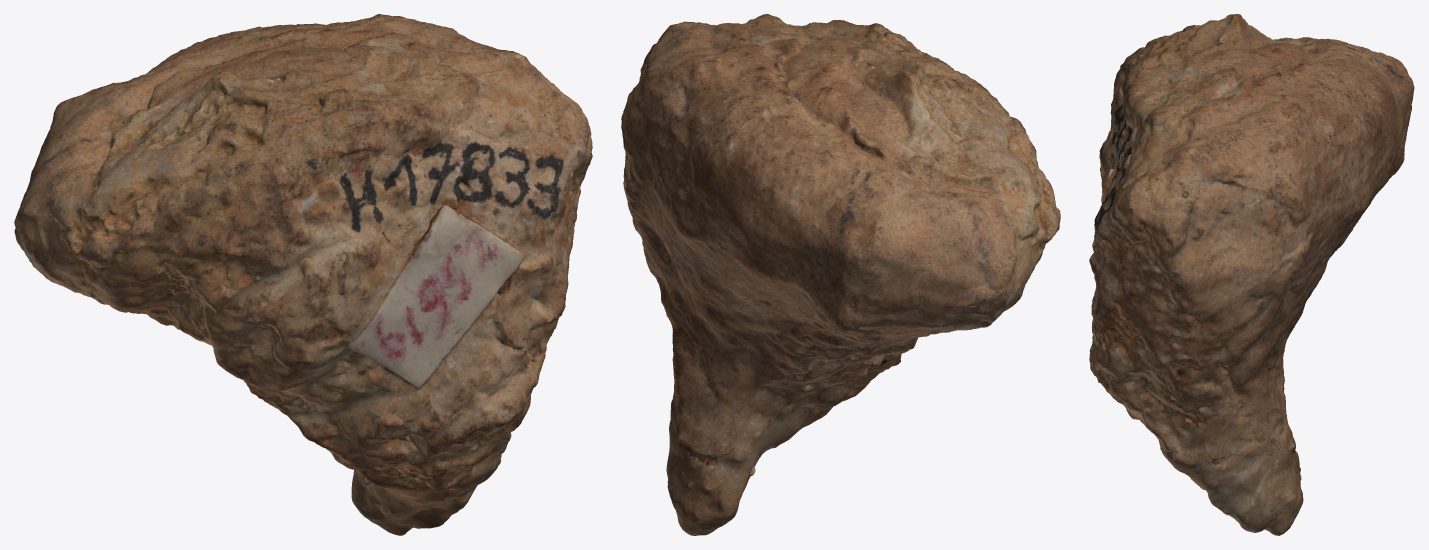
Rendered from EWS0012657.glb.
3 renders of one model, left to right at view 1: azimuth 30°, elevation 25°; view 2: azimuth 150°, elevation 25°; view 3: azimuth 270°, elevation 25°, orthographic. The views are drawn at different scales.
Visible parts, largest first — view 1: input; view 2: input; view 3: input.
Boxes of the visible parts, x1,y1,x2,y2 form: input: [14, 14, 592, 535]; input: [621, 14, 1060, 535]; input: [1089, 14, 1414, 535].
Size of the model in its own units: 0.0302 by 0.0315 by 0.0212.
Materials: 1 (1 with a texture image).
